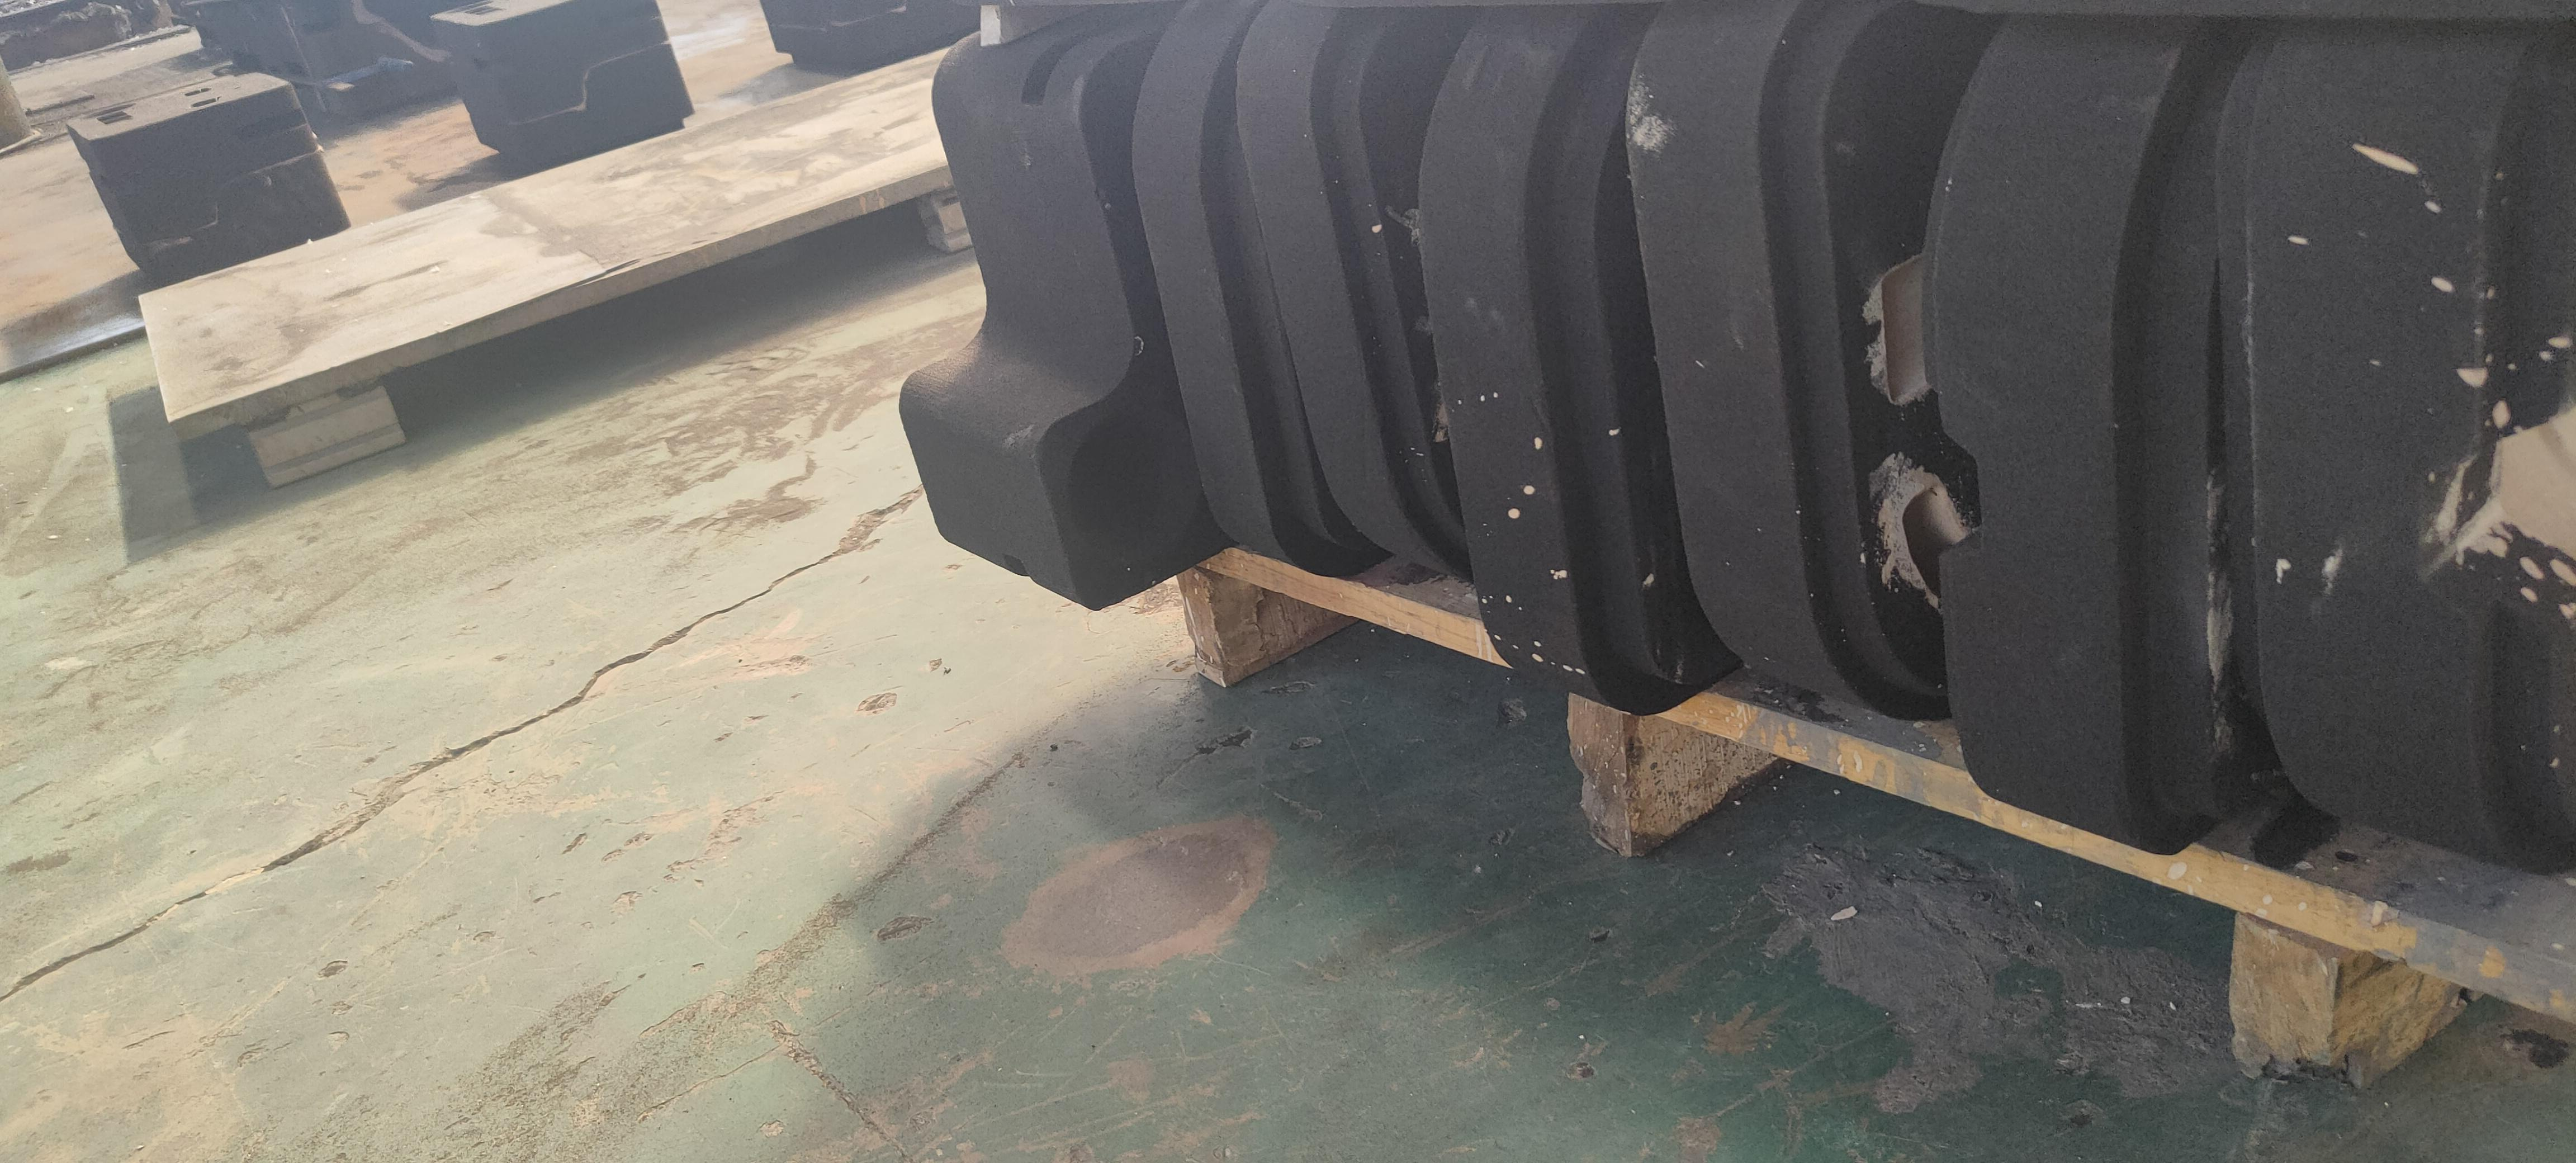pouring hole: (1065, 411, 1198, 560), (77, 102, 133, 120), (437, 0, 496, 11)
